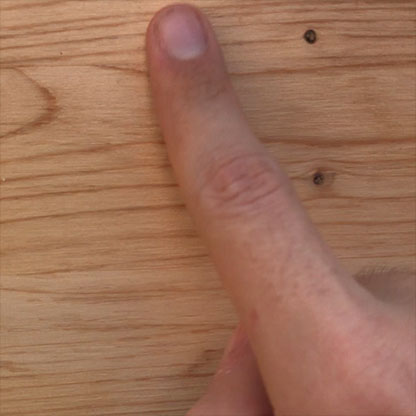fingertip: (131, 2, 230, 73)
